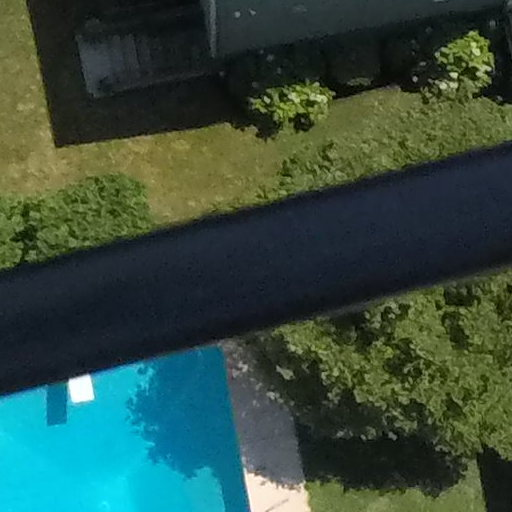pool: (1, 397, 322, 512)
